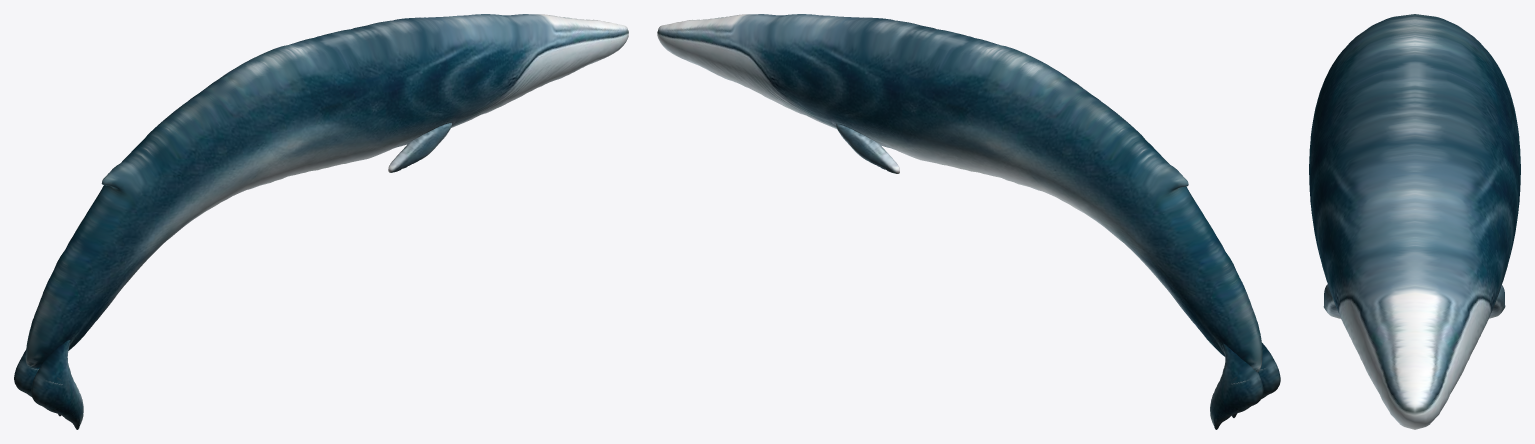
The model's file is fin-whale.glb.
The picture shows the model from 3 angles, left to right: view 1: azimuth 30°, elevation 25°; view 2: azimuth 150°, elevation 25°; view 3: azimuth 270°, elevation 25°; orthographic projection. The views are drawn at different scales.
Visible parts, largest first — view 1: mm_frame (19); view 2: mm_frame (19); view 3: mm_frame (19).
Part boxes in pixels (bbox=[...]): mm_frame (19): bbox=[14, 14, 628, 429]; mm_frame (19): bbox=[657, 14, 1280, 429]; mm_frame (19): bbox=[1309, 14, 1520, 429].
Size of the model in its own units: 9.57 by 4.79 by 1.74.
1 material, 1 textured.
